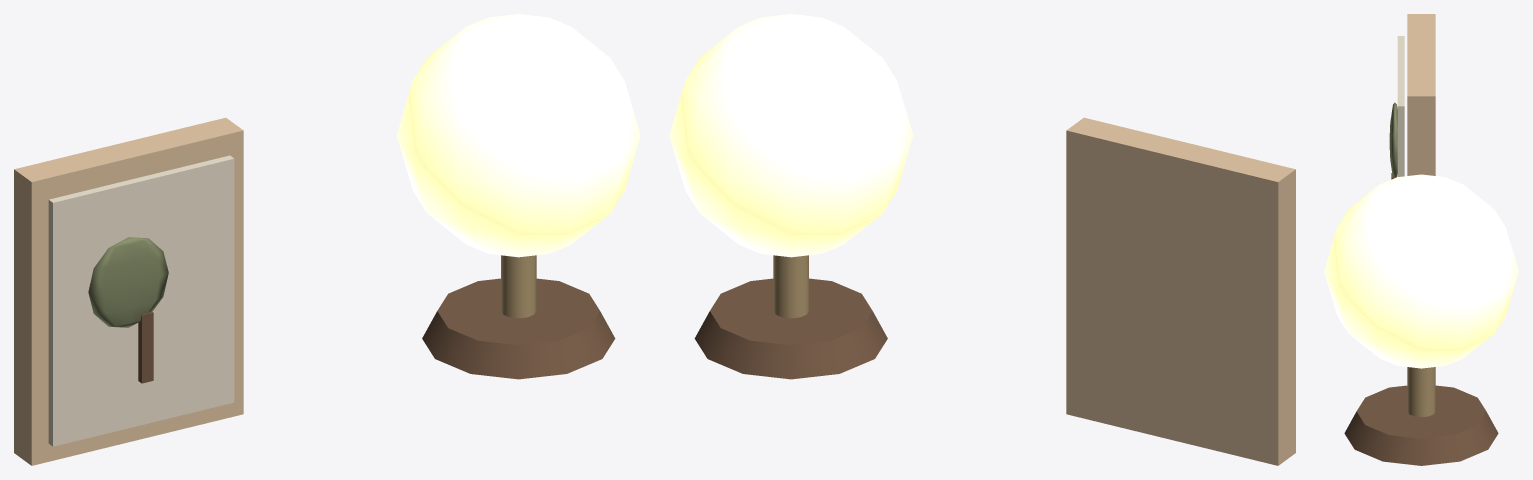
Rendered from living_ref_bookcase_top.glb.
3 renders of one model, left to right at view 1: azimuth 30°, elevation 25°; view 2: azimuth 150°, elevation 25°; view 3: azimuth 270°, elevation 25°, orthographic. The views are drawn at different scales.
Size of the model in its own units: 0.7098 by 0.3536 by 0.2496.
